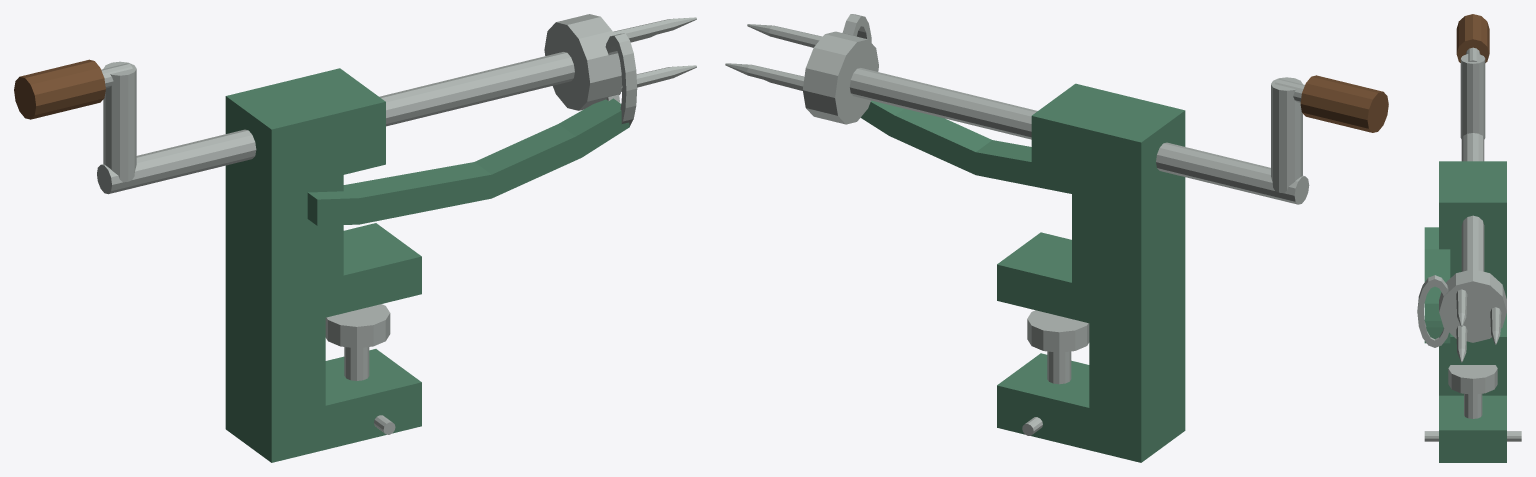
The picture shows the model from 3 angles, left to right: view 1: azimuth 30°, elevation 25°; view 2: azimuth 150°, elevation 25°; view 3: azimuth 270°, elevation 25°; orthographic projection. The views are drawn at different scales.
Parts seen in each view (by area): view 1: WholeOpenCClampAndUprightBearingFrame, WholeCurvedSideBladeSupportingArm, WholeHorizontalFruitCarrierShaft, WholeThreeProngCarrierHub, WholeThickRoundedCrankGrip, WholeOffsetCrankArm, WholeBroadClampPressurePad, WholeOpenLoopSideBladeCarrier, WholeTaperedFruitForkProng1, WholeVerticalClampScrew, WholeTaperedFruitForkProng2; view 2: WholeOpenCClampAndUprightBearingFrame, WholeHorizontalFruitCarrierShaft, WholeCurvedSideBladeSupportingArm, WholeThreeProngCarrierHub, WholeThickRoundedCrankGrip, WholeOffsetCrankArm, WholeBroadClampPressurePad, WholeTaperedFruitForkProng0, WholeTaperedFruitForkProng1, WholeVerticalClampScrew; view 3: WholeOpenCClampAndUprightBearingFrame, WholeThreeProngCarrierHub, WholeOffsetCrankArm, WholeCurvedSideBladeSupportingArm, WholeHorizontalFruitCarrierShaft, WholeBroadClampPressurePad, WholeThickRoundedCrankGrip, WholeOpenLoopSideBladeCarrier, WholeVerticalClampScrew, WholeTaperedFruitForkProng1, WholeTaperedFruitForkProng0, WholeTaperedFruitForkProng2 (+2 smaller).
Boxes of the visible parts, <box> form: WholeOpenCClampAndUprightBearingFrame: <box>225,68,421,462</box>; WholeCurvedSideBladeSupportingArm: <box>307,98,629,225</box>; WholeHorizontalFruitCarrierShaft: <box>97,52,574,194</box>; WholeThreeProngCarrierHub: <box>544,14,621,110</box>; WholeThickRoundedCrankGrip: <box>14,59,105,119</box>; WholeOffsetCrankArm: <box>103,61,136,182</box>; WholeBroadClampPressurePad: <box>325,304,390,348</box>; WholeOpenLoopSideBladeCarrier: <box>605,33,637,125</box>; WholeTaperedFruitForkProng1: <box>613,17,696,41</box>; WholeVerticalClampScrew: <box>344,347,369,380</box>; WholeTaperedFruitForkProng2: <box>621,65,696,91</box>; WholeOpenCClampAndUprightBearingFrame: <box>997,83,1185,462</box>; WholeHorizontalFruitCarrierShaft: <box>849,68,1309,204</box>; WholeCurvedSideBladeSupportingArm: <box>860,100,1071,193</box>; WholeThreeProngCarrierHub: <box>802,31,878,124</box>; WholeThickRoundedCrankGrip: <box>1300,75,1388,132</box>; WholeOffsetCrankArm: <box>1271,77,1302,193</box>; WholeBroadClampPressurePad: <box>1027,310,1089,352</box>; WholeTaperedFruitForkProng0: <box>725,63,804,89</box>; WholeTaperedFruitForkProng1: <box>747,24,822,47</box>; WholeVerticalClampScrew: <box>1047,351,1071,384</box>; WholeOpenCClampAndUprightBearingFrame: <box>1439,161,1506,462</box>; WholeThreeProngCarrierHub: <box>1439,269,1506,342</box>; WholeOffsetCrankArm: <box>1460,54,1485,139</box>; WholeCurvedSideBladeSupportingArm: <box>1424,227,1450,343</box>; WholeHorizontalFruitCarrierShaft: <box>1461,133,1484,271</box>; WholeBroadClampPressurePad: <box>1448,365,1497,394</box>; WholeThickRoundedCrankGrip: <box>1456,14,1489,62</box>; WholeOpenLoopSideBladeCarrier: <box>1417,275,1448,347</box>; WholeVerticalClampScrew: <box>1464,393,1482,418</box>; WholeTaperedFruitForkProng1: <box>1456,289,1467,326</box>; WholeTaperedFruitForkProng0: <box>1490,307,1501,344</box>; WholeTaperedFruitForkProng2: <box>1456,325,1467,362</box>.
Bounding box in the file's own units: 0.552 × 0.336 × 0.101.
